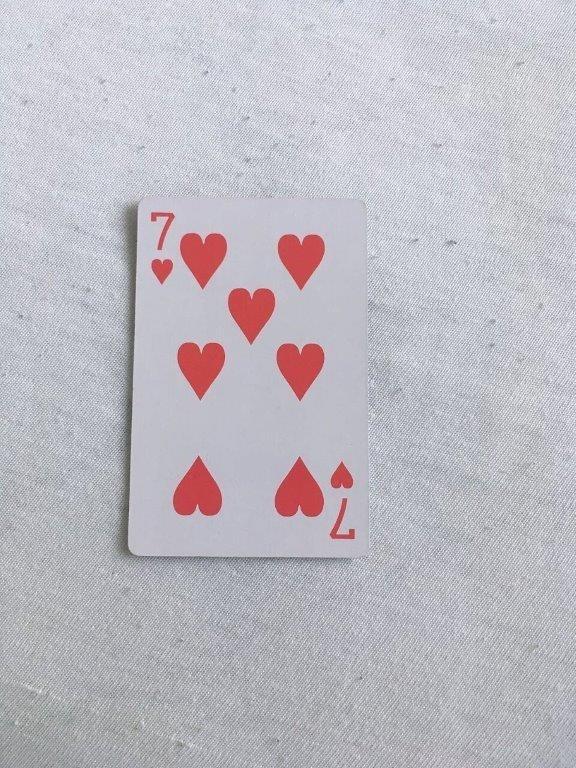7H: (123, 196, 373, 562)
